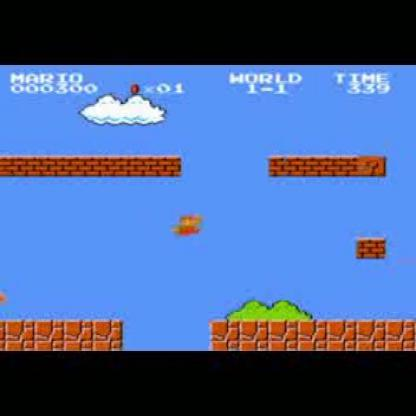Hoyo: (115, 317, 214, 349)
